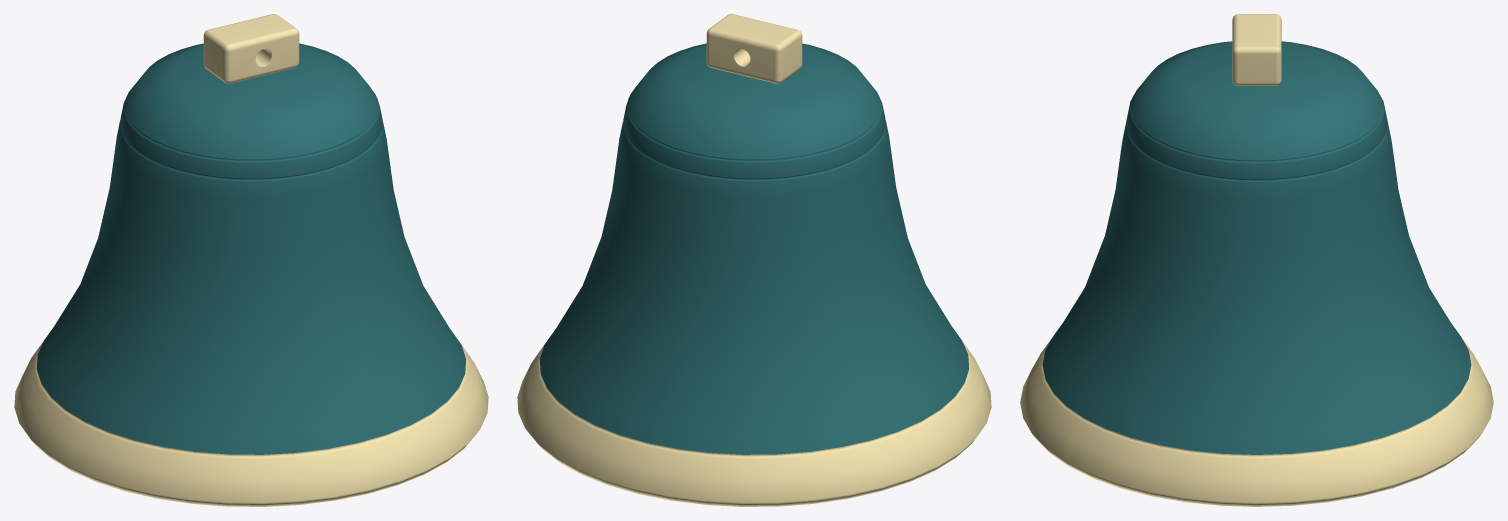
The picture shows the model from 3 angles, left to right: view 1: azimuth 30°, elevation 25°; view 2: azimuth 150°, elevation 25°; view 3: azimuth 270°, elevation 25°; orthographic projection.
Parts seen in each view (by area): view 1: BellShell, Headstock; view 2: BellShell, Headstock; view 3: BellShell, Headstock.
Boxes of the visible parts, x1,y1,x2,y2 form: BellShell: (14,43,488,506); Headstock: (203,14,299,83); BellShell: (517,43,991,506); Headstock: (706,14,802,83); BellShell: (1020,41,1493,506); Headstock: (1232,14,1281,85).
Size of the model in its own units: 0.082 by 0.0793 by 0.082.
